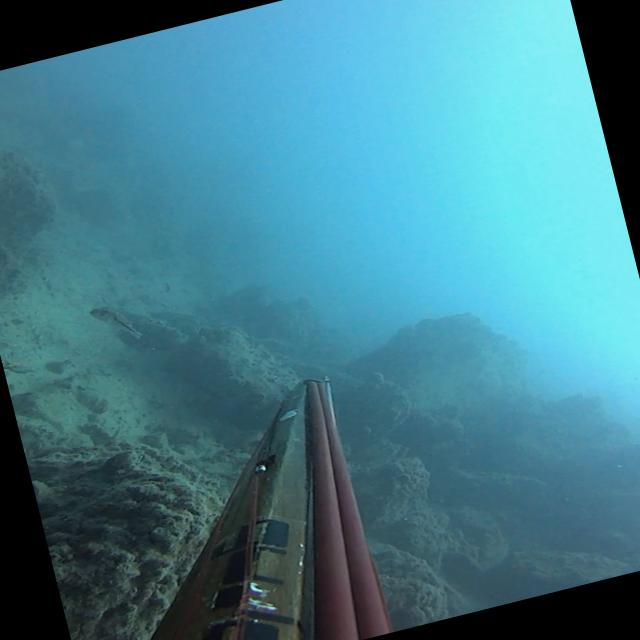Balon Baligi: (88, 298, 142, 348)
